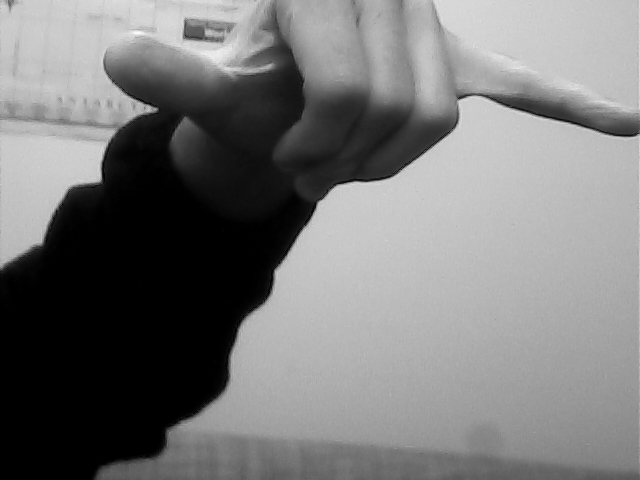aloha: (94, 1, 640, 203)
